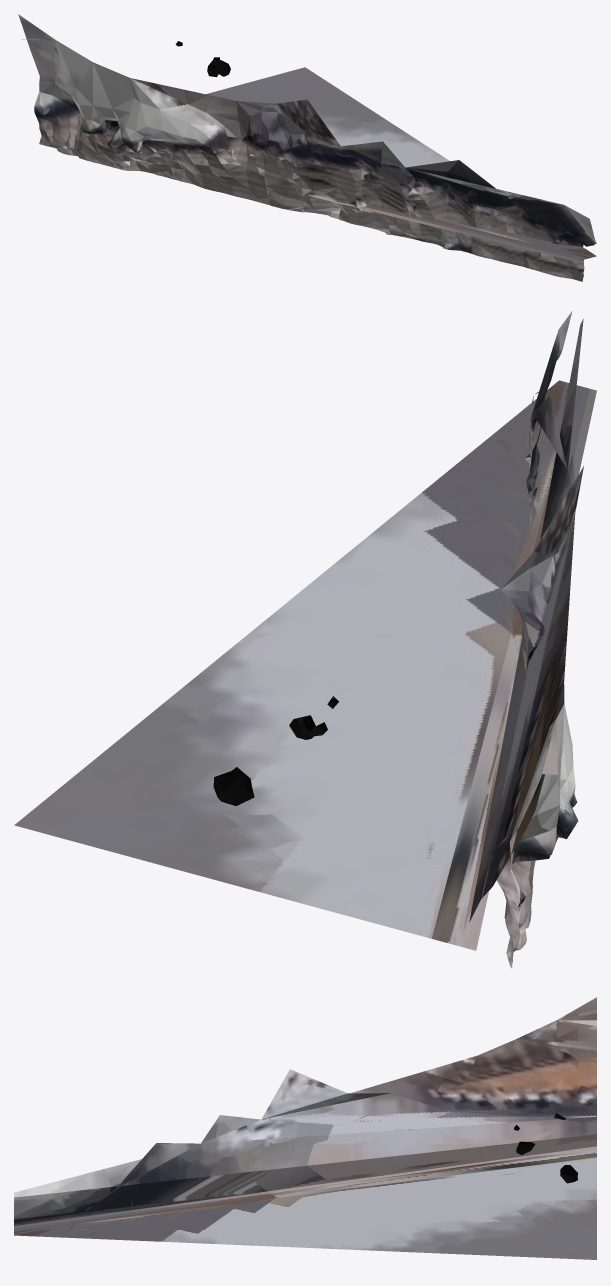
The picture shows the model from 3 angles, top to bottom: view 1: azimuth 30°, elevation 25°; view 2: azimuth 150°, elevation 25°; view 3: azimuth 270°, elevation 25°; orthographic projection. The views are drawn at different scales.
Bounding box in the file's own units: 6.02 × 2.66 × 10.44.
2 materials, 2 textured.
